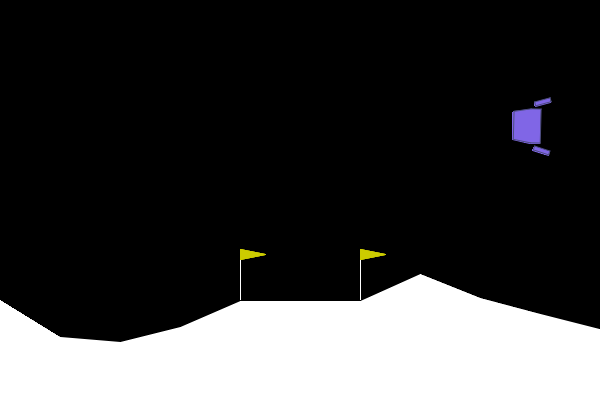lander: (510, 96, 552, 157)
